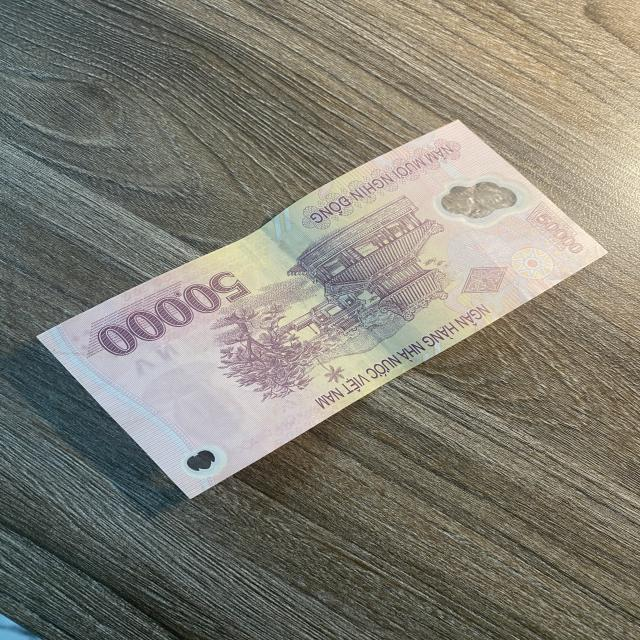50 000 VND: (33, 118, 609, 500)
